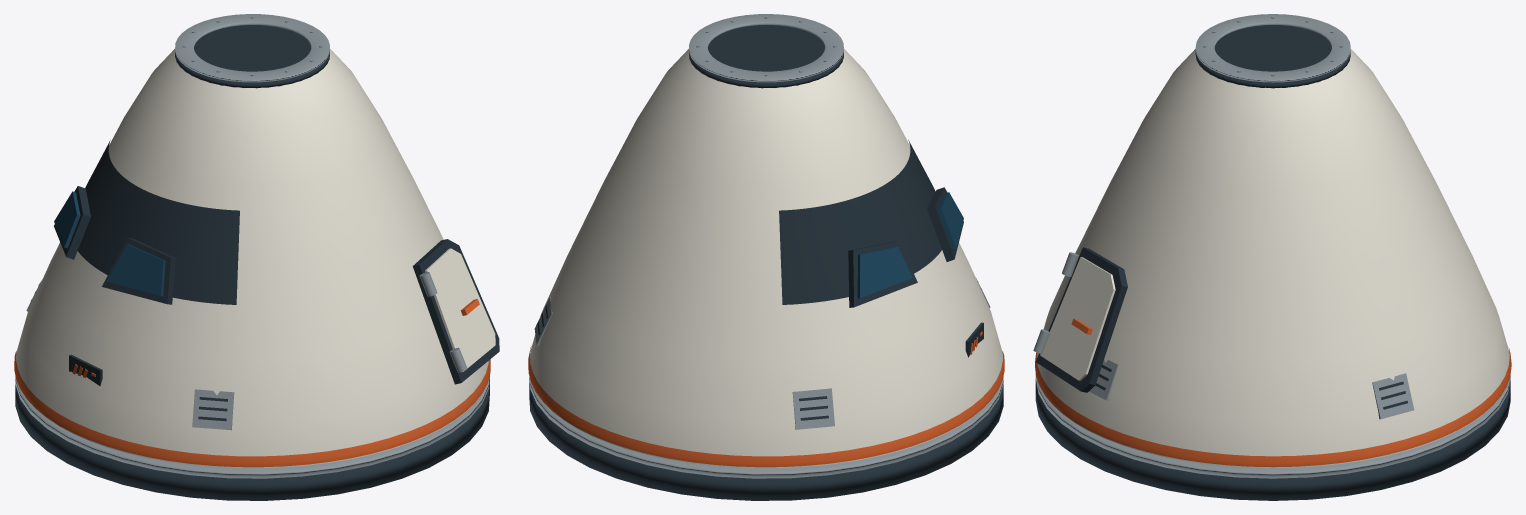
Rendered from pk_2_kontur.glb.
3 renders of one model, left to right at view 1: azimuth 30°, elevation 25°; view 2: azimuth 150°, elevation 25°; view 3: azimuth 270°, elevation 25°, orthographic.
Visible parts, largest first — view 1: pk_2_konturpressure_hullmesh_JUGRE_·_bone_ceramic, pk_2_konturmesh_JUGRE_·_graphite_composite, pk_2_konturpressure_hullmesh_JUGRE_·_graphite_composite, pk_2_konturmesh_JUGRE_·_bead-blasted_titanium, pk_2_konturpressure_hullmesh_JUGRE_·_oxide_orange, pk_2_konturcrew_hatchskinmesh_JUGRE_·_bone_ceramic, pk_2_konturcrew_hatchskinmesh_JUGRE_·_graphite_composite, pk_2_konturviewport_02mesh_JUGRE_·_blue_viewport, pk_2_konturviewport_02mesh_JUGRE_·_graphite_composite, pk_2_konturservice_panel_01mesh_JUGRE_·_bead-blasted_titaniu, pk_2_konturviewport_01mesh_JUGRE_·_graphite_composite, pk_2_konturviewport_01mesh_JUGRE_·_blue_viewport (+1 smaller); view 2: pk_2_konturpressure_hullmesh_JUGRE_·_bone_ceramic, pk_2_konturmesh_JUGRE_·_graphite_composite, pk_2_konturpressure_hullmesh_JUGRE_·_graphite_composite, pk_2_konturmesh_JUGRE_·_bead-blasted_titanium, pk_2_konturpressure_hullmesh_JUGRE_·_oxide_orange, pk_2_konturviewport_01mesh_JUGRE_·_blue_viewport, pk_2_konturviewport_01mesh_JUGRE_·_graphite_composite, pk_2_konturservice_panel_04mesh_JUGRE_·_bead-blasted_titaniu, pk_2_konturviewport_02mesh_JUGRE_·_graphite_composite, pk_2_konturviewport_02mesh_JUGRE_·_blue_viewport; view 3: pk_2_konturpressure_hullmesh_JUGRE_·_bone_ceramic, pk_2_konturmesh_JUGRE_·_graphite_composite, pk_2_konturmesh_JUGRE_·_bead-blasted_titanium, pk_2_konturpressure_hullmesh_JUGRE_·_oxide_orange, pk_2_konturcrew_hatchskinmesh_JUGRE_·_bone_ceramic, pk_2_konturcrew_hatchskinmesh_JUGRE_·_graphite_composite, pk_2_konturservice_panel_03mesh_JUGRE_·_bead-blasted_titaniu, pk_2_konturservice_panel_02mesh_JUGRE_·_bead-blasted_titaniu.
Part boxes in pixels (<box>): pk_2_konturpressure_hullmesh_JUGRE_·_bone_ceramic: <box>16,49,488,468</box>; pk_2_konturmesh_JUGRE_·_graphite_composite: <box>15,25,489,500</box>; pk_2_konturpressure_hullmesh_JUGRE_·_graphite_composite: <box>77,140,239,304</box>; pk_2_konturmesh_JUGRE_·_bead-blasted_titanium: <box>15,14,489,478</box>; pk_2_konturpressure_hullmesh_JUGRE_·_oxide_orange: <box>14,351,490,467</box>; pk_2_konturcrew_hatchskinmesh_JUGRE_·_bone_ceramic: <box>425,248,495,372</box>; pk_2_konturcrew_hatchskinmesh_JUGRE_·_graphite_composite: <box>412,239,499,384</box>; pk_2_konturviewport_02mesh_JUGRE_·_blue_viewport: <box>107,244,165,296</box>; pk_2_konturviewport_02mesh_JUGRE_·_graphite_composite: <box>102,238,175,304</box>; pk_2_konturservice_panel_01mesh_JUGRE_·_bead-blasted_titaniu: <box>192,389,234,430</box>; pk_2_konturviewport_01mesh_JUGRE_·_graphite_composite: <box>54,186,90,259</box>; pk_2_konturviewport_01mesh_JUGRE_·_blue_viewport: <box>54,191,80,248</box>; pk_2_konturpressure_hullmesh_JUGRE_·_bone_ceramic: <box>530,49,1002,468</box>; pk_2_konturmesh_JUGRE_·_graphite_composite: <box>529,25,1003,500</box>; pk_2_konturpressure_hullmesh_JUGRE_·_graphite_composite: <box>779,139,941,304</box>; pk_2_konturmesh_JUGRE_·_bead-blasted_titanium: <box>529,14,1003,478</box>; pk_2_konturpressure_hullmesh_JUGRE_·_oxide_orange: <box>528,346,1004,467</box>; pk_2_konturviewport_01mesh_JUGRE_·_blue_viewport: <box>857,246,912,298</box>; pk_2_konturviewport_01mesh_JUGRE_·_graphite_composite: <box>848,241,917,307</box>; pk_2_konturservice_panel_04mesh_JUGRE_·_bead-blasted_titaniu: <box>792,388,834,429</box>; pk_2_konturviewport_02mesh_JUGRE_·_graphite_composite: <box>927,187,963,261</box>; pk_2_konturviewport_02mesh_JUGRE_·_blue_viewport: <box>937,192,963,250</box>; pk_2_konturpressure_hullmesh_JUGRE_·_bone_ceramic: <box>1036,49,1509,468</box>; pk_2_konturmesh_JUGRE_·_graphite_composite: <box>1035,25,1510,500</box>; pk_2_konturmesh_JUGRE_·_bead-blasted_titanium: <box>1035,14,1510,478</box>; pk_2_konturpressure_hullmesh_JUGRE_·_oxide_orange: <box>1035,347,1511,467</box>; pk_2_konturcrew_hatchskinmesh_JUGRE_·_bone_ceramic: <box>1040,257,1115,380</box>; pk_2_konturcrew_hatchskinmesh_JUGRE_·_graphite_composite: <box>1036,247,1127,392</box>; pk_2_konturservice_panel_03mesh_JUGRE_·_bead-blasted_titaniu: <box>1372,373,1414,419</box>; pk_2_konturservice_panel_02mesh_JUGRE_·_bead-blasted_titaniu: <box>1089,359,1118,400</box>.
Bounding box in the file's own units: 2.51 × 2.06 × 2.52.
